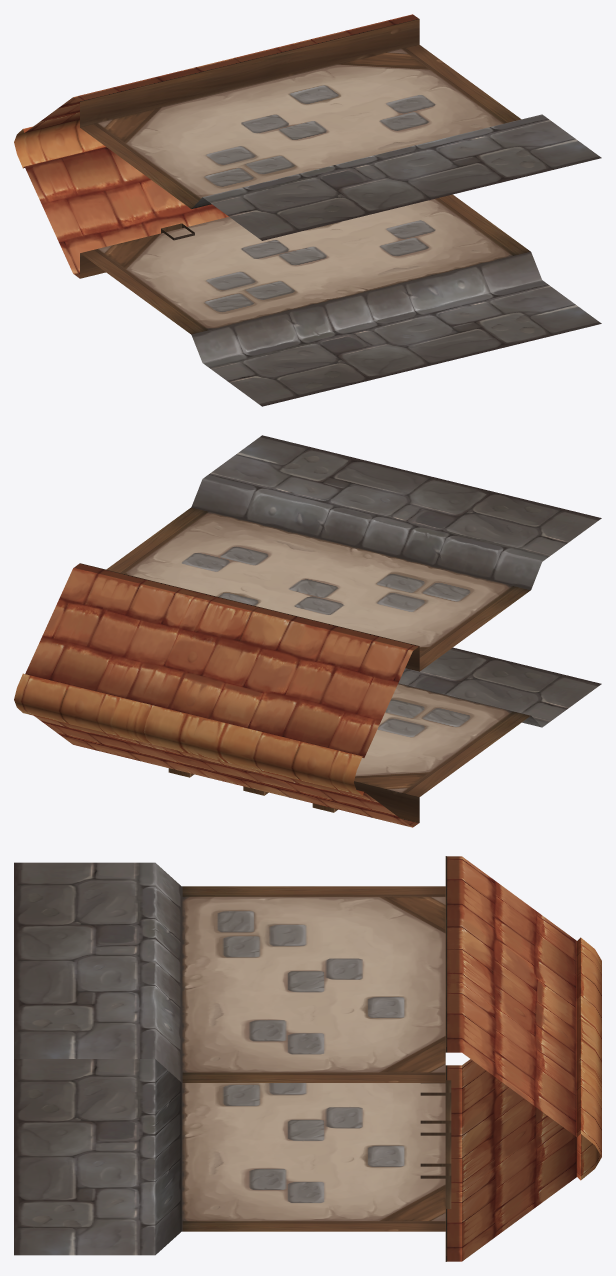
File: Wall_part1.fbx
The picture shows the model from 3 angles, top to bottom: view 1: azimuth 30°, elevation 25°; view 2: azimuth 150°, elevation 25°; view 3: azimuth 270°, elevation 25°; orthographic projection. The views are drawn at different scales.
Visible parts, largest first — view 1: Wall_part1; view 2: Wall_part1; view 3: Wall_part1.
Part boxes in pixels (x1=…): Wall_part1: x1=14, y1=14, x2=601, y2=406; Wall_part1: x1=14, y1=435, x2=601, y2=827; Wall_part1: x1=14, y1=856, x2=601, y2=1261.
Size of what is drawn, in the model's own units: 3.91 by 2.04 by 4.94.
